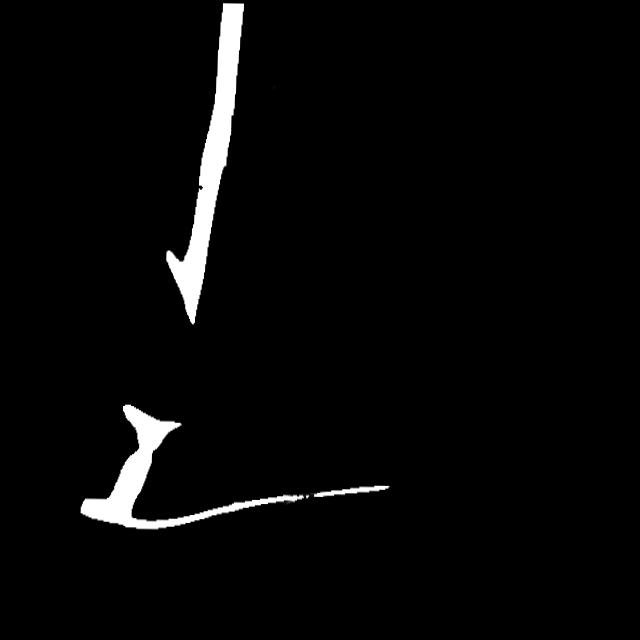inf: (294, 486, 326, 504)
